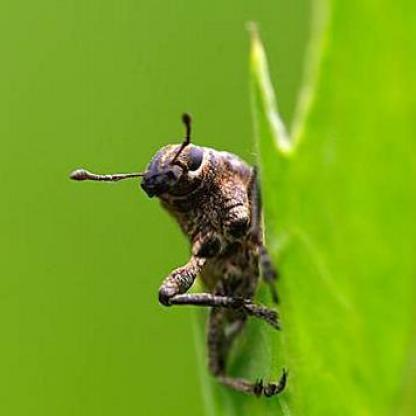rice-bug: (128, 134, 283, 395)
